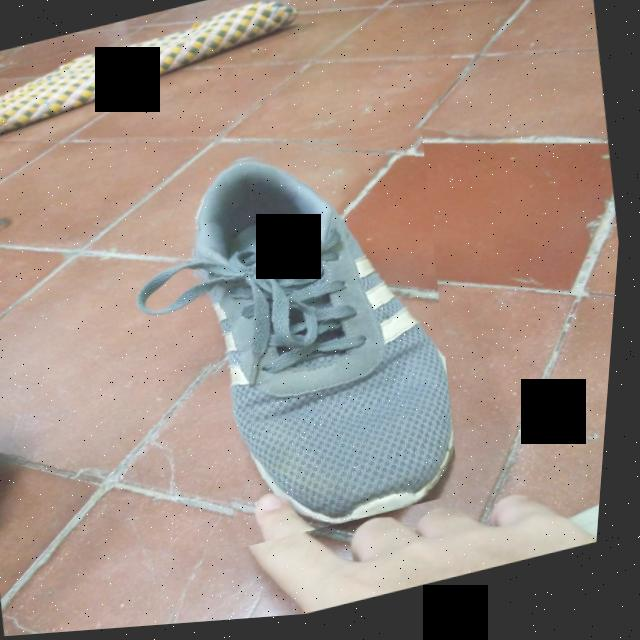shoe: (161, 115, 490, 561)
